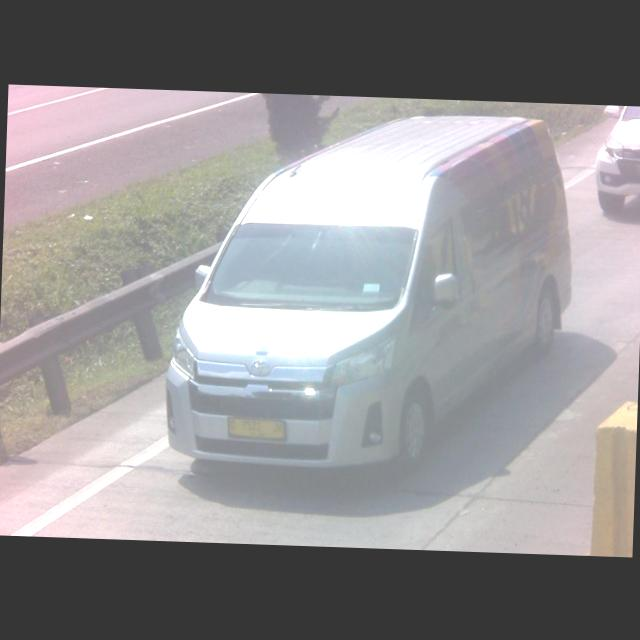plate: (225, 414, 287, 444)
